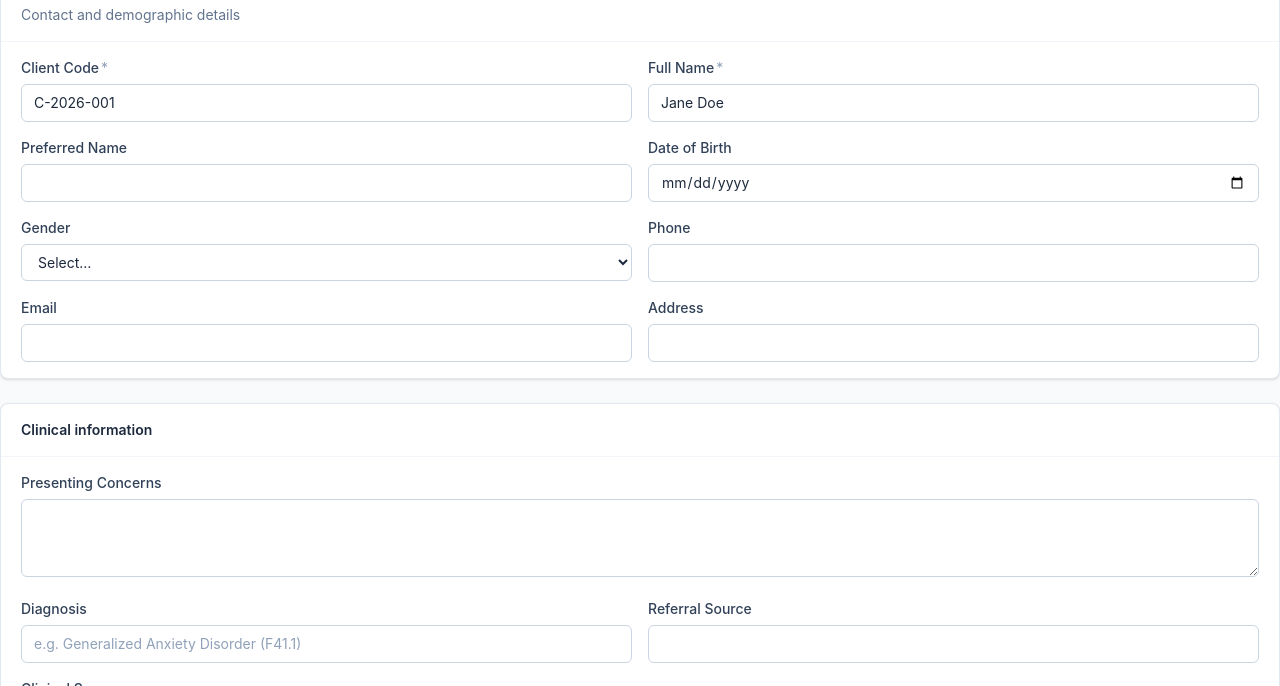
ClientForm validation › shows unsaved changes indicator after editing
Expected: the text "Unsaved changes" is not shown
Replace the text in the field labelled "Full Name" with "Jane Smith". click: (954, 103)
box: 648,84 -> 1259,122
(page scrolled)
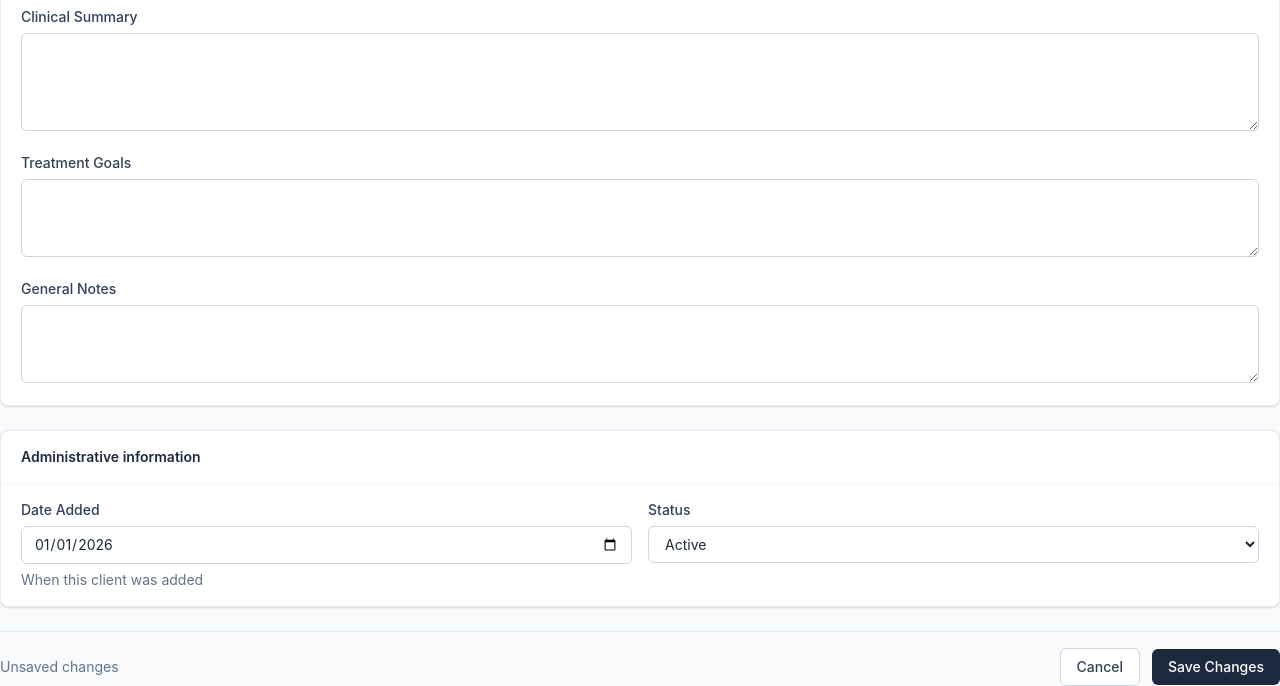
Now the text "Unsaved changes" is shown, box 0,657 -> 119,677
